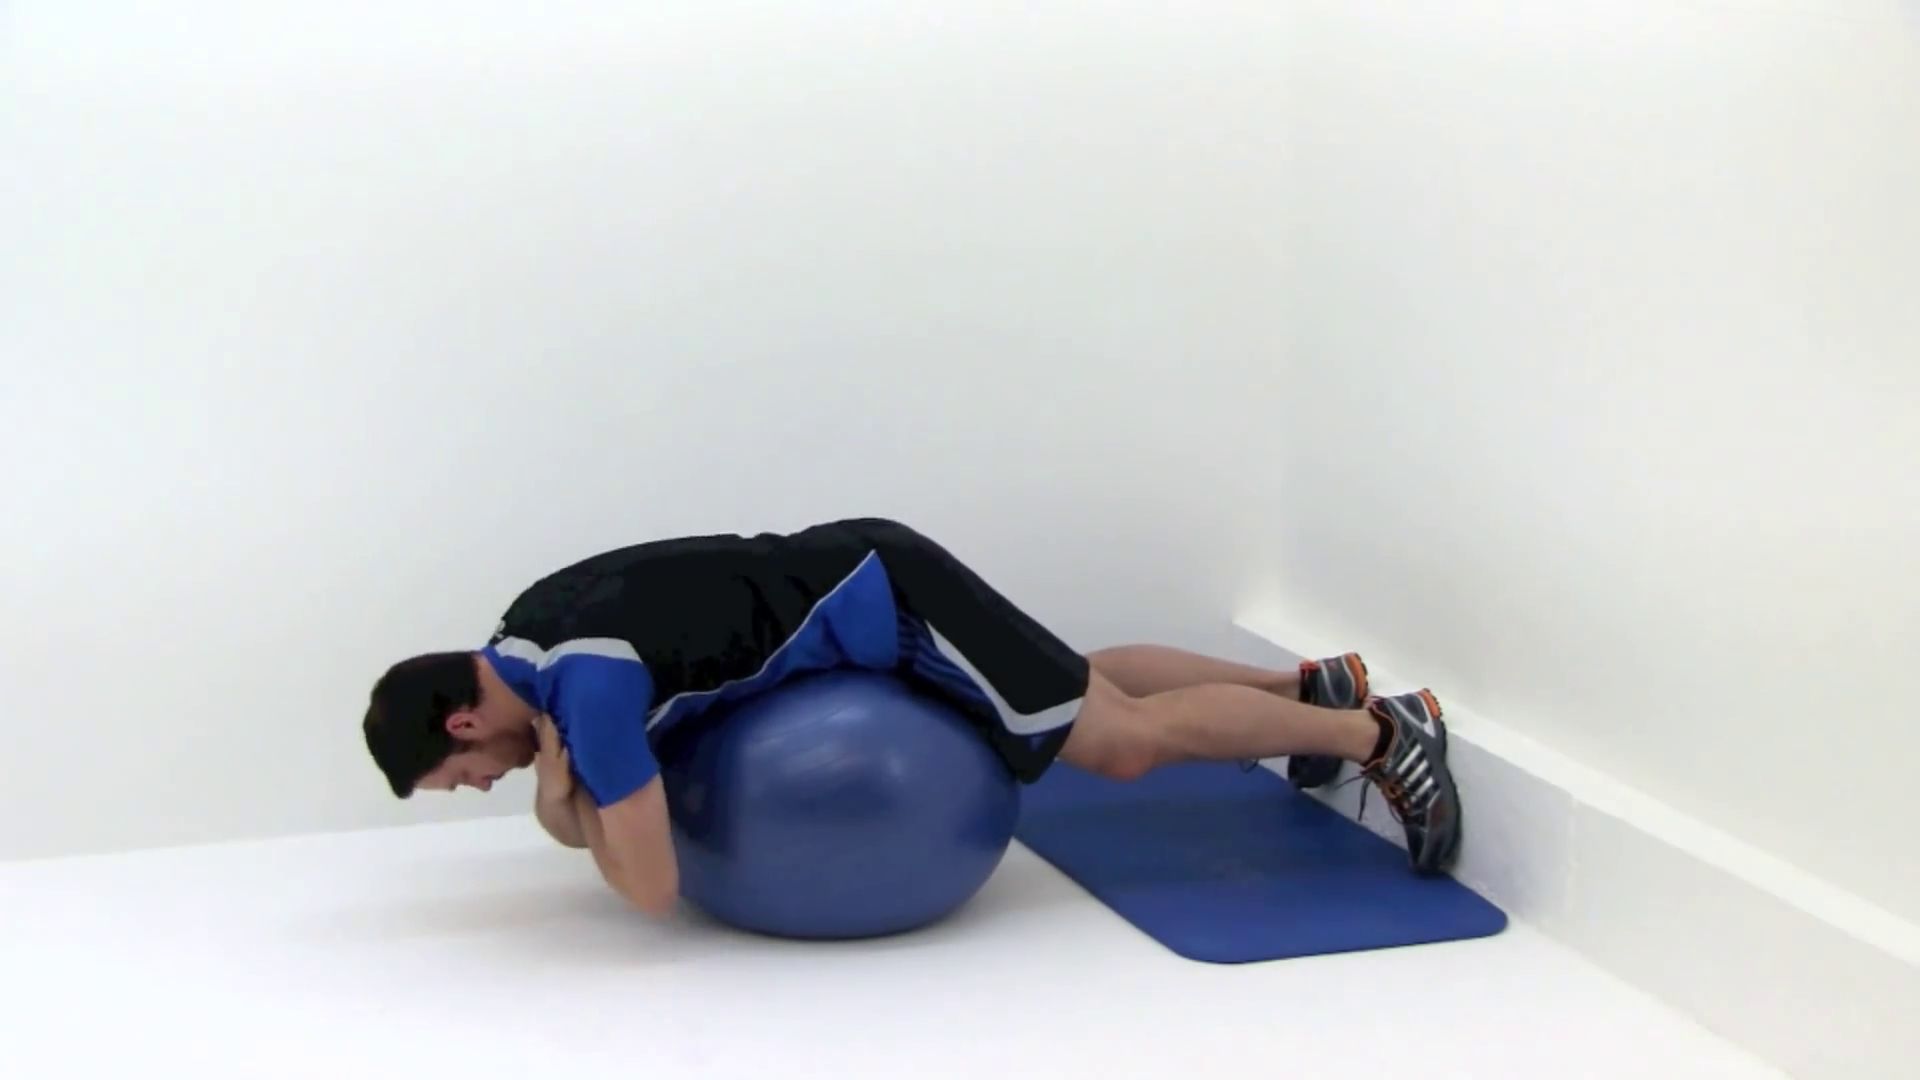yogaball: (608, 654, 1043, 953)
